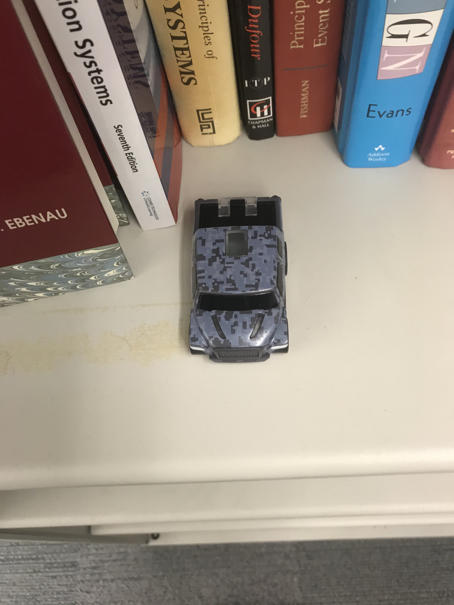MXT: (187, 193, 291, 363)
